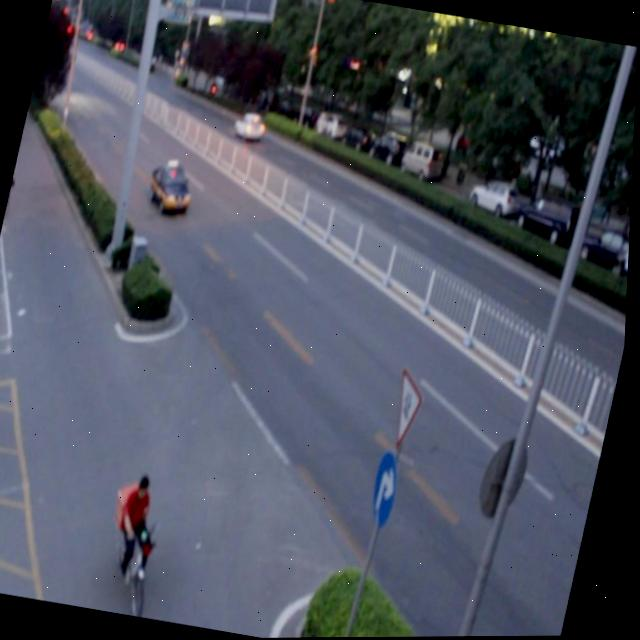car: (145, 158, 199, 216)
